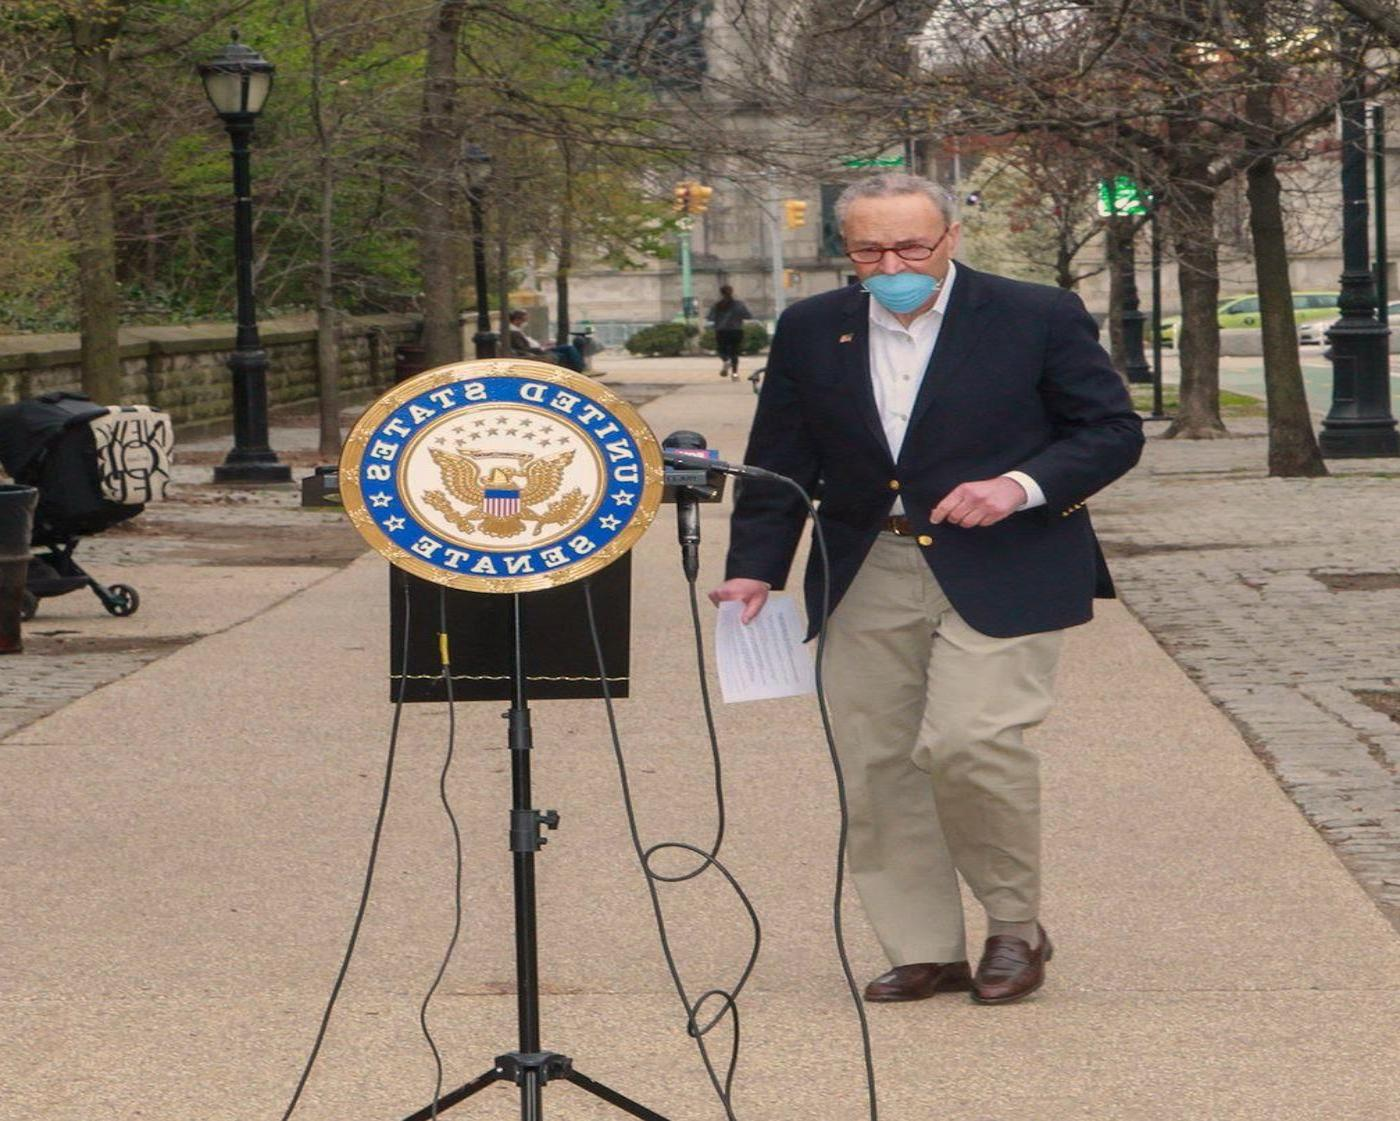mask_weared_incorrect: (831, 172, 965, 319)
